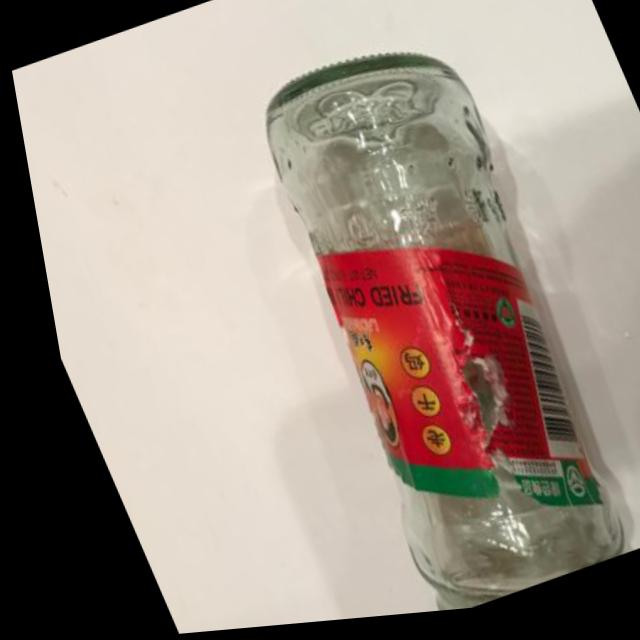glass: (162, 0, 640, 629)
